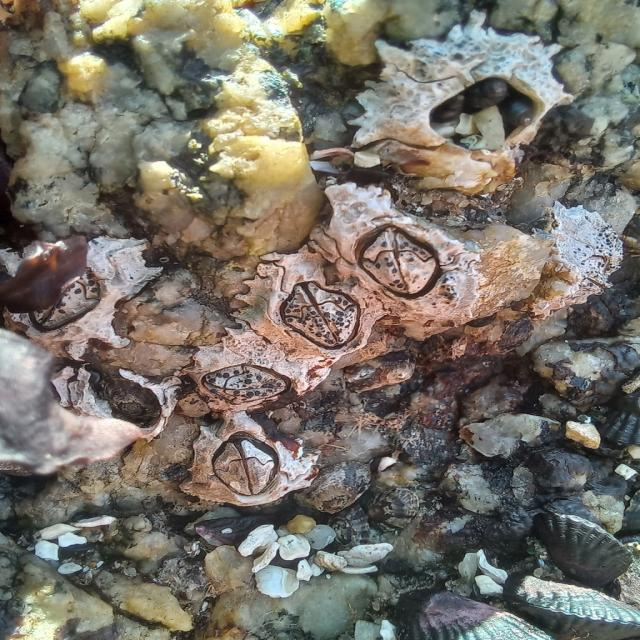barnacles: (353, 194, 484, 325), (177, 412, 319, 518), (258, 258, 374, 367), (200, 334, 297, 422)
